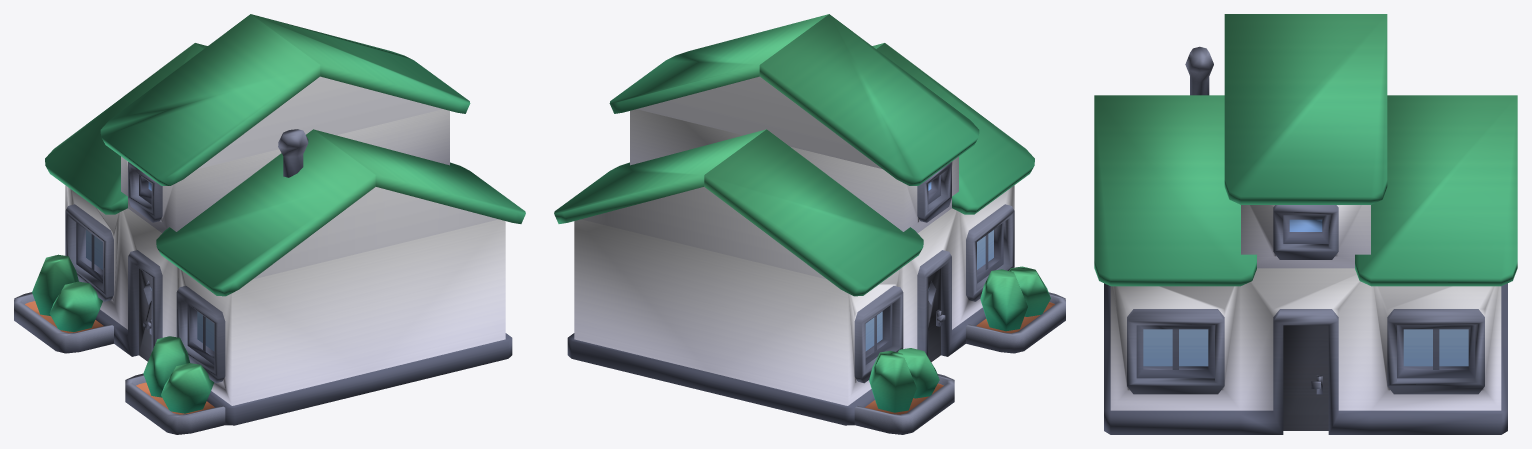
File: n1_building-type-a_lev1.glb
The picture shows the model from 3 angles, left to right: view 1: azimuth 30°, elevation 25°; view 2: azimuth 150°, elevation 25°; view 3: azimuth 270°, elevation 25°; orthographic projection. The views are drawn at different scales.
Visible parts, largest first — view 1: n1_building-type-a_lev1; view 2: n1_building-type-a_lev1; view 3: n1_building-type-a_lev1.
Boxes of the visible parts, bbox=[...] form: n1_building-type-a_lev1: bbox=[14, 14, 525, 434]; n1_building-type-a_lev1: bbox=[554, 14, 1065, 434]; n1_building-type-a_lev1: bbox=[1094, 14, 1517, 434].
Size of the model in its own units: 7.97 by 6.27 by 7.1.
Materials: 1 (1 with a texture image).
